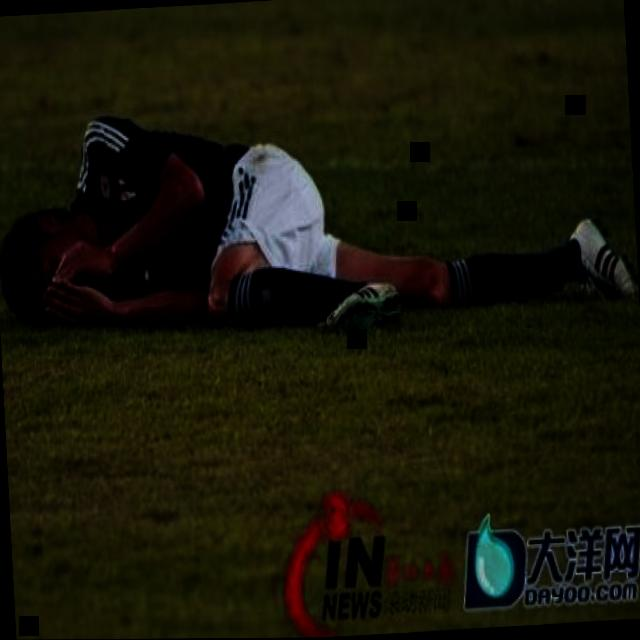Fall-Detected: (0, 38, 630, 353)
